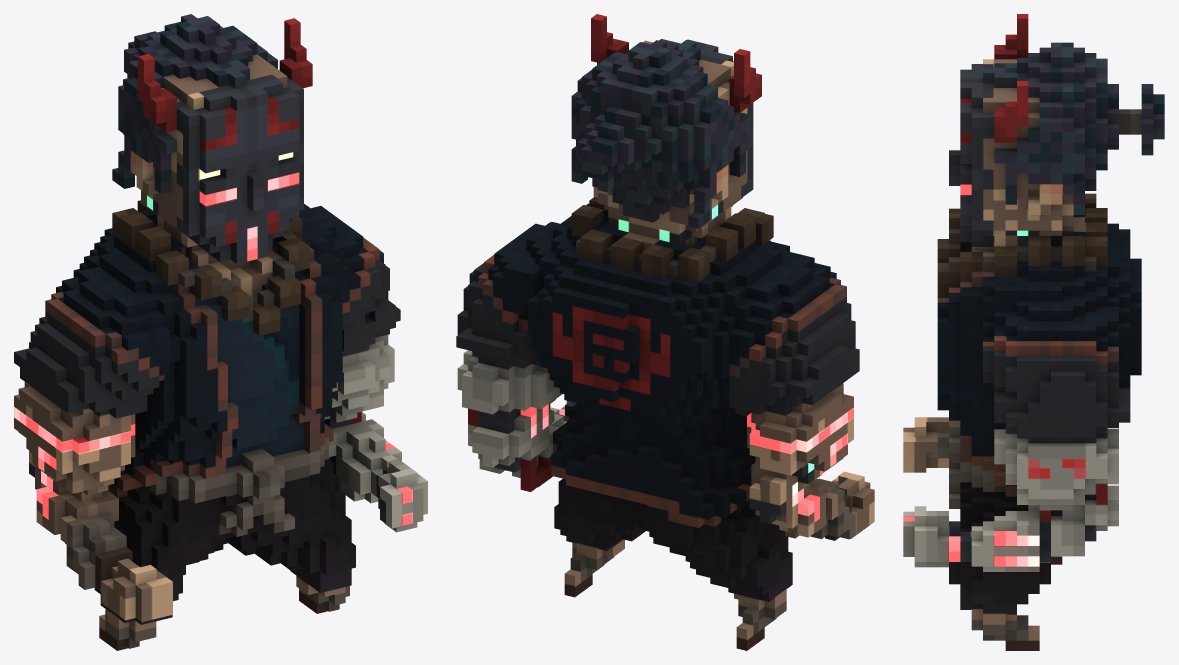
The picture shows the model from 3 angles, left to right: view 1: azimuth 30°, elevation 25°; view 2: azimuth 150°, elevation 25°; view 3: azimuth 270°, elevation 25°; orthographic projection. The views are drawn at different scales.
Visible parts, largest first — view 1: ObjObject:001.001; view 2: ObjObject:001.001; view 3: ObjObject:001.001.
Boxes of the visible parts, left/top/right/bottom form: ObjObject:001.001: left=14, top=14, right=427, bottom=650; ObjObject:001.001: left=456, top=14, right=874, bottom=650; ObjObject:001.001: left=903, top=14, right=1164, bottom=650.
Bounding box in the file's own units: 3.3 × 5.4 × 2.3.
6 materials, 6 textured.
